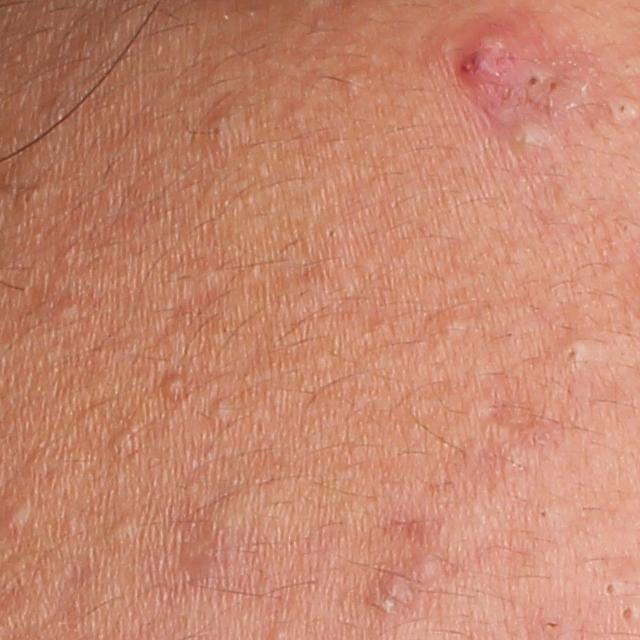comedo: (559, 339, 588, 372), (339, 69, 371, 96), (106, 516, 135, 545), (161, 371, 187, 399), (112, 428, 140, 453), (439, 317, 469, 340), (206, 396, 233, 421), (207, 116, 229, 146), (415, 555, 438, 581), (598, 577, 620, 602), (56, 299, 80, 319), (617, 600, 634, 622), (325, 223, 341, 242), (545, 78, 560, 93)
papule: (454, 6, 543, 98), (371, 568, 415, 614)
